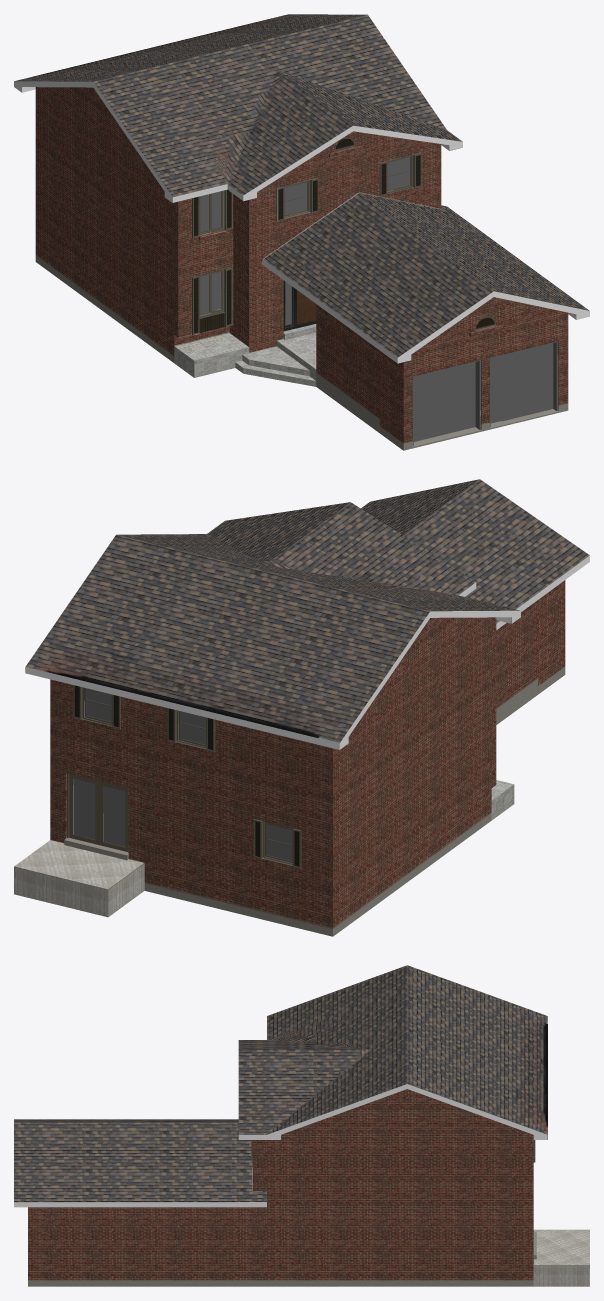
File: Residential House 14.fbx
3 views of the same model, one above another, from view 1: azimuth 30°, elevation 25°; view 2: azimuth 150°, elevation 25°; view 3: azimuth 270°, elevation 25° (orthographic). The views are drawn at different scales.
Parts seen in each view (by area): view 1: Residential_House_14_LOD0; view 2: Residential_House_14_LOD0; view 3: Residential_House_14_LOD0.
Boxes of the visible parts, bbox=[...] form: Residential_House_14_LOD0: bbox=[14, 14, 589, 450]; Residential_House_14_LOD0: bbox=[14, 479, 589, 936]; Residential_House_14_LOD0: bbox=[14, 965, 589, 1286].
Size of what is drawn, in the model's own units: 1000 by 820 by 2050.
1 material, 1 textured.
